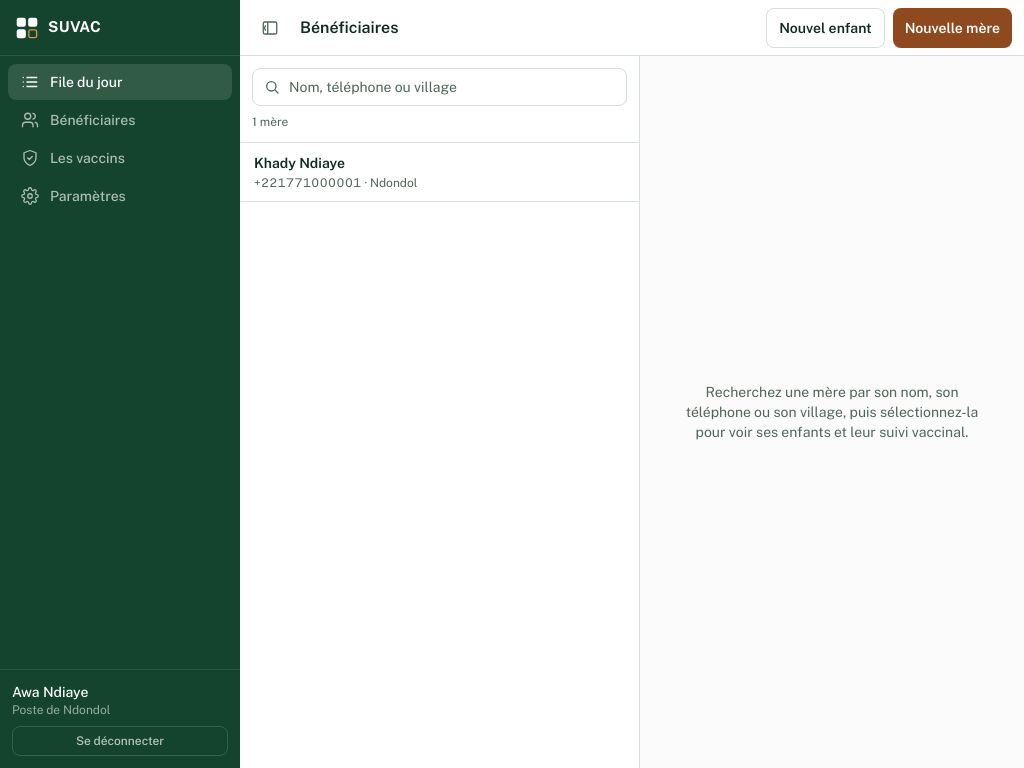
Scenario: Beneficiaires › ouvre le formulaire de grossesse depuis la fiche
What coordinates should you click on to do the following:
click the text "Khady Ndiaye"
I would click on:
 (300, 163)
Its box is [254,153,345,173].
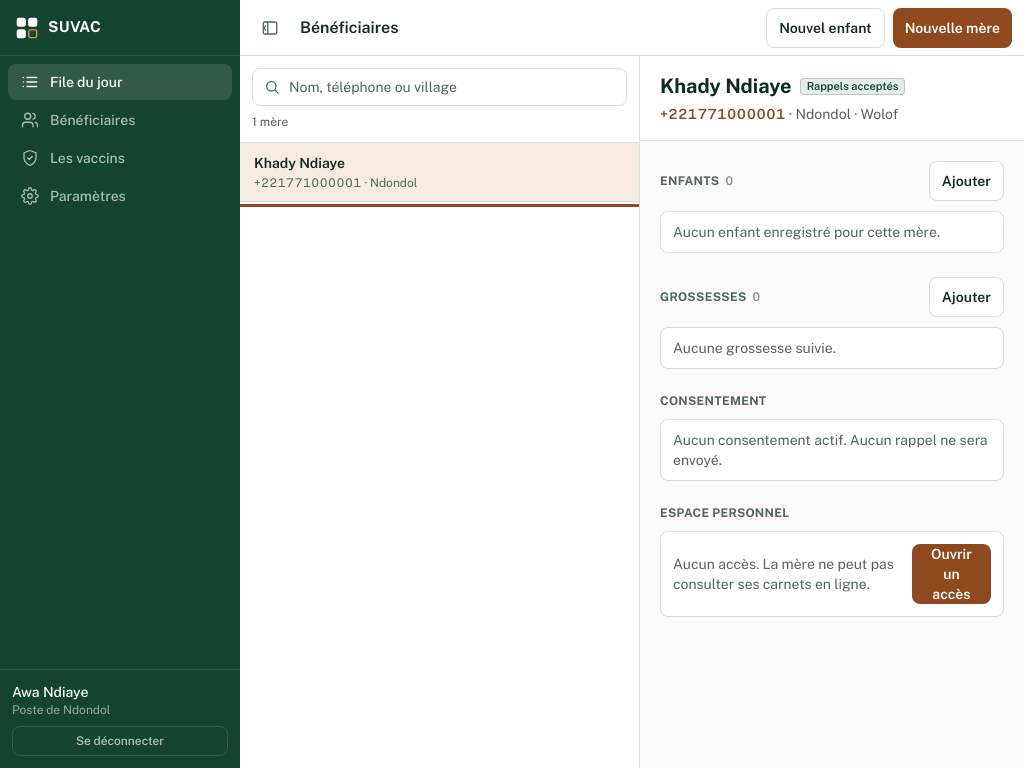
What coordinates should you click on to do the following:
click the button with aria-label "ajouter une grossesse"
I would click on:
 (966, 297)
Its box is [929,277,1004,317].
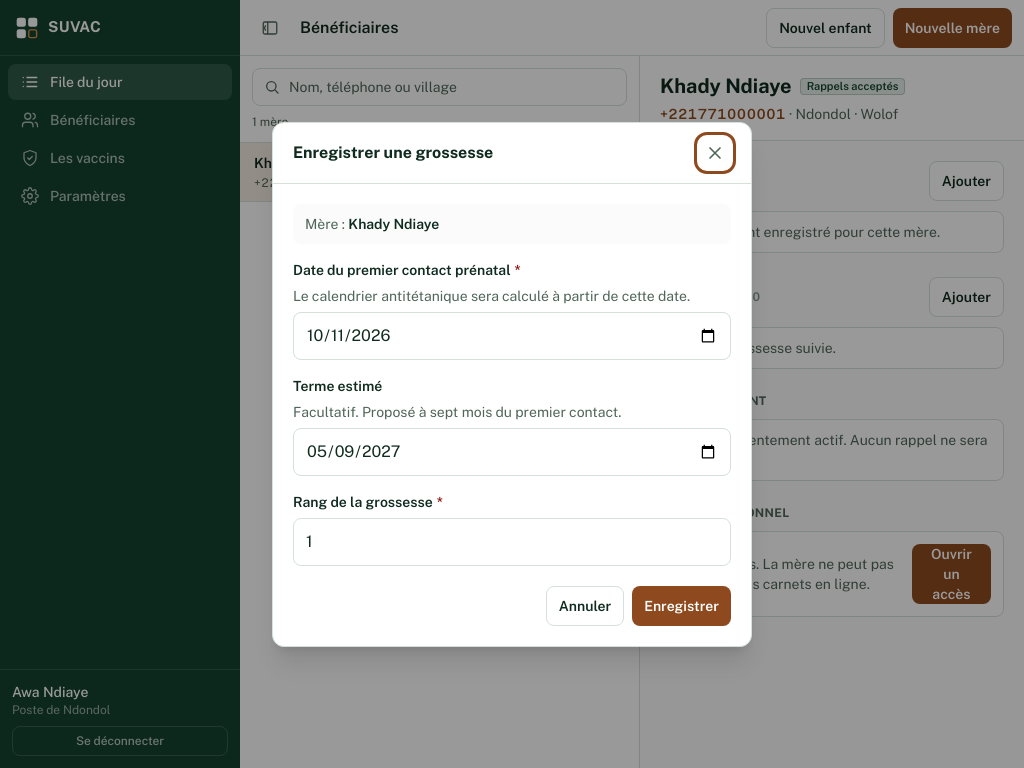
Now the heading "Enregistrer une grossesse" is shown, box [293,140,493,164]
